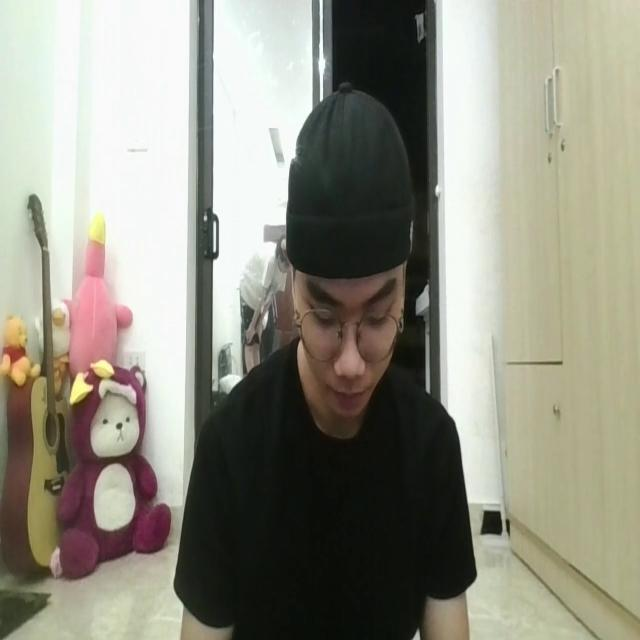student: (176, 68, 472, 640)
